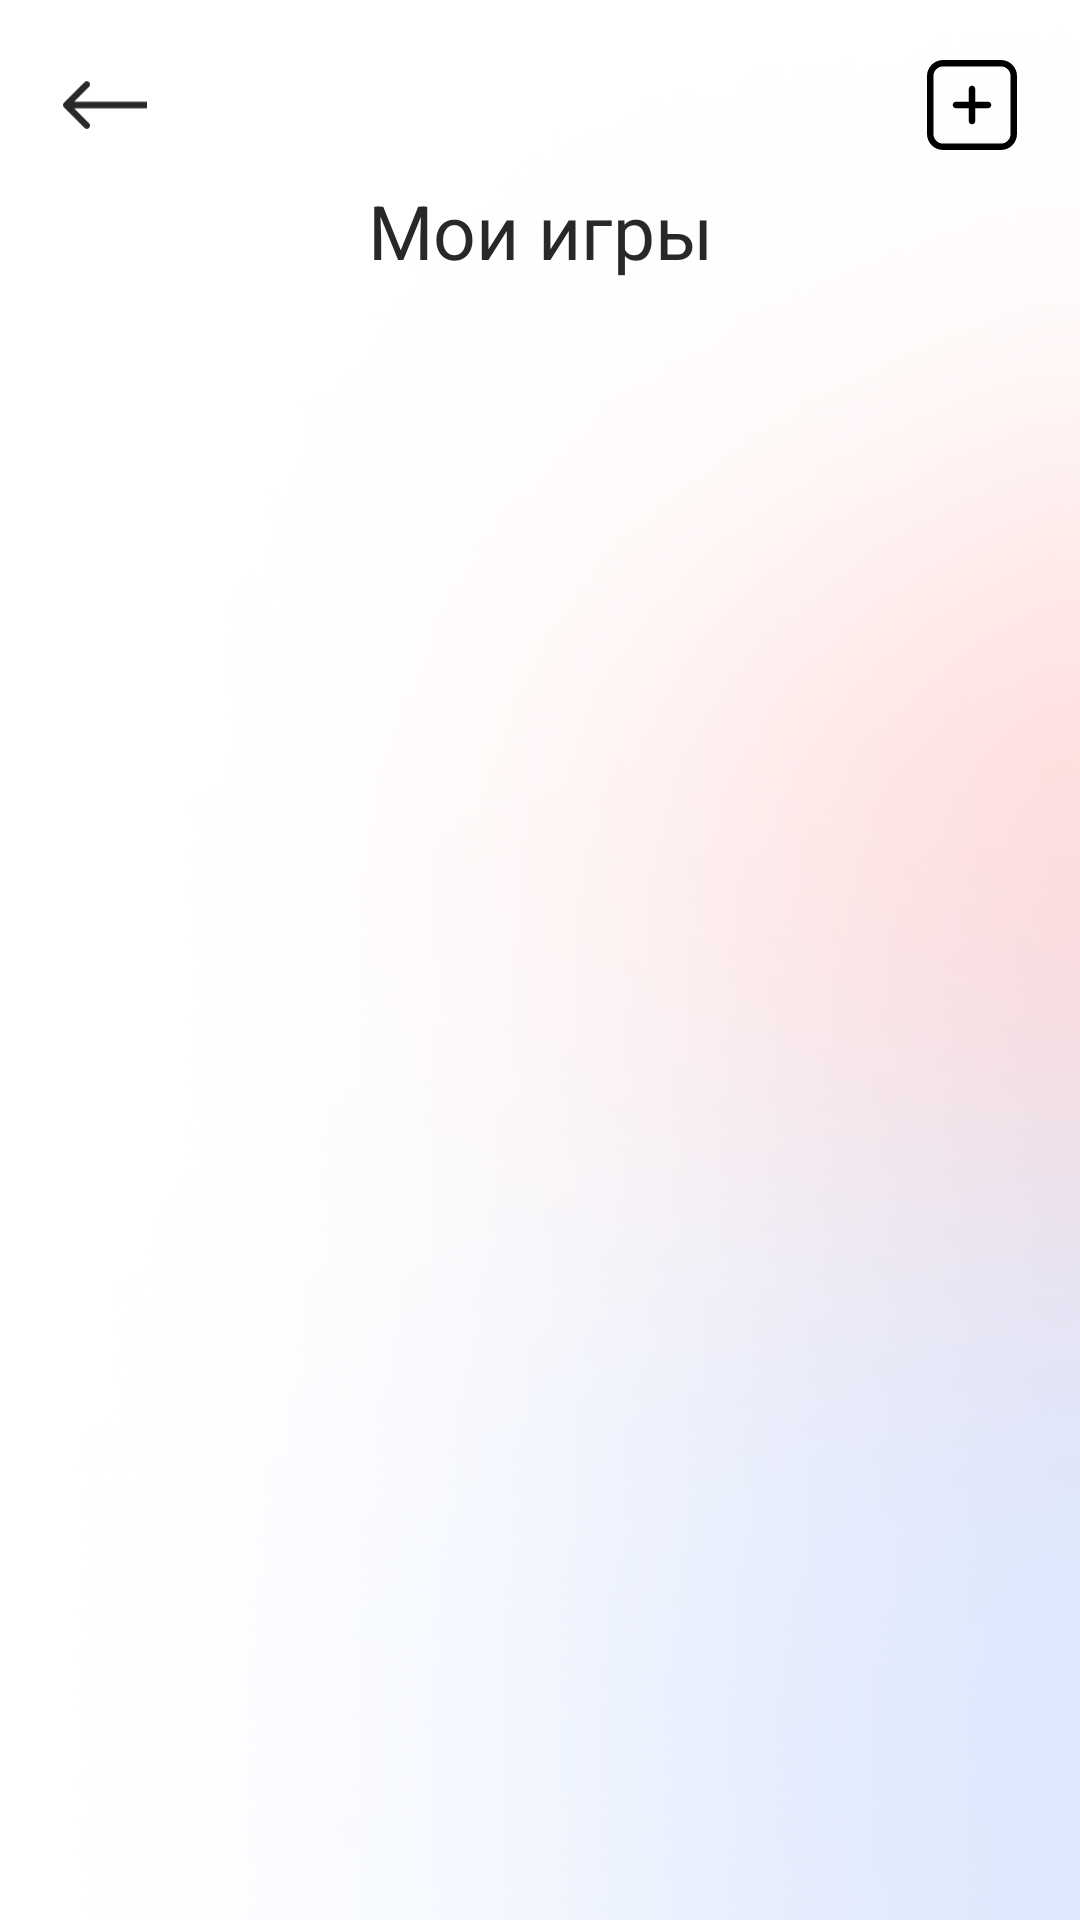

Named icons in this screenshot (1080w x 1920h) and their centers, (x,y):
add game: (972,105)
go back: (105,105)
